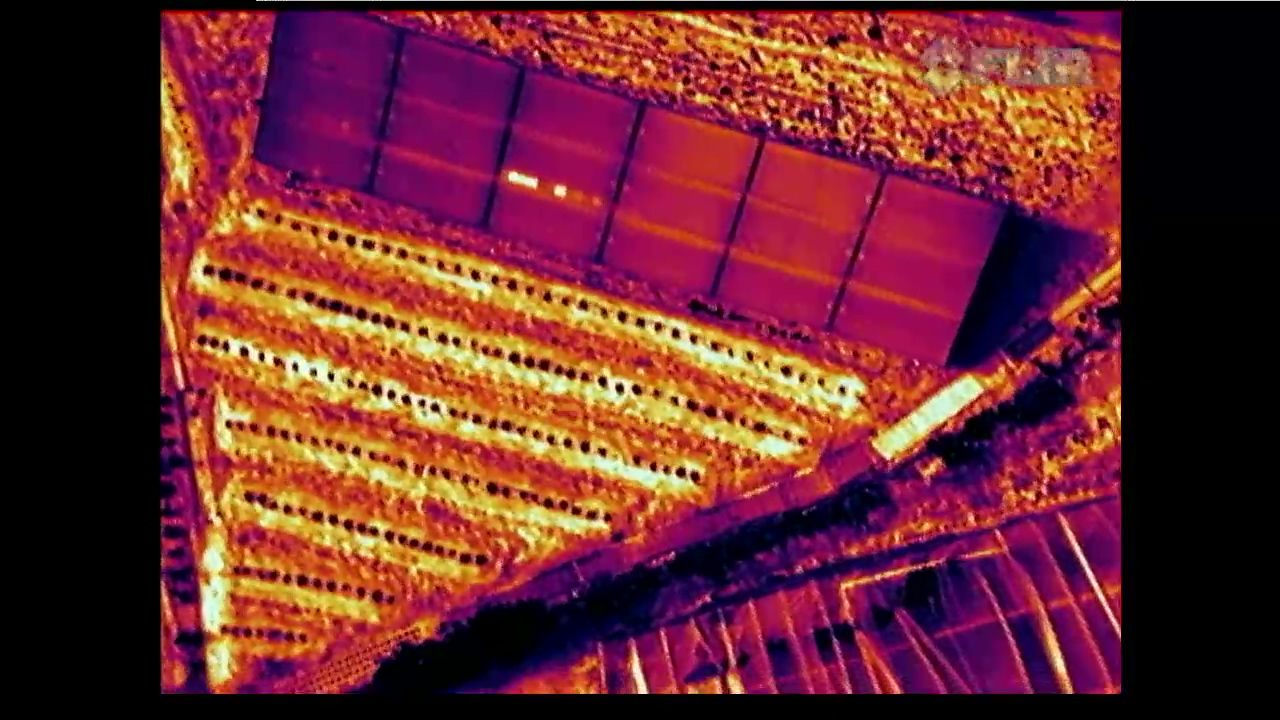hotspot: (480, 68, 645, 268)
